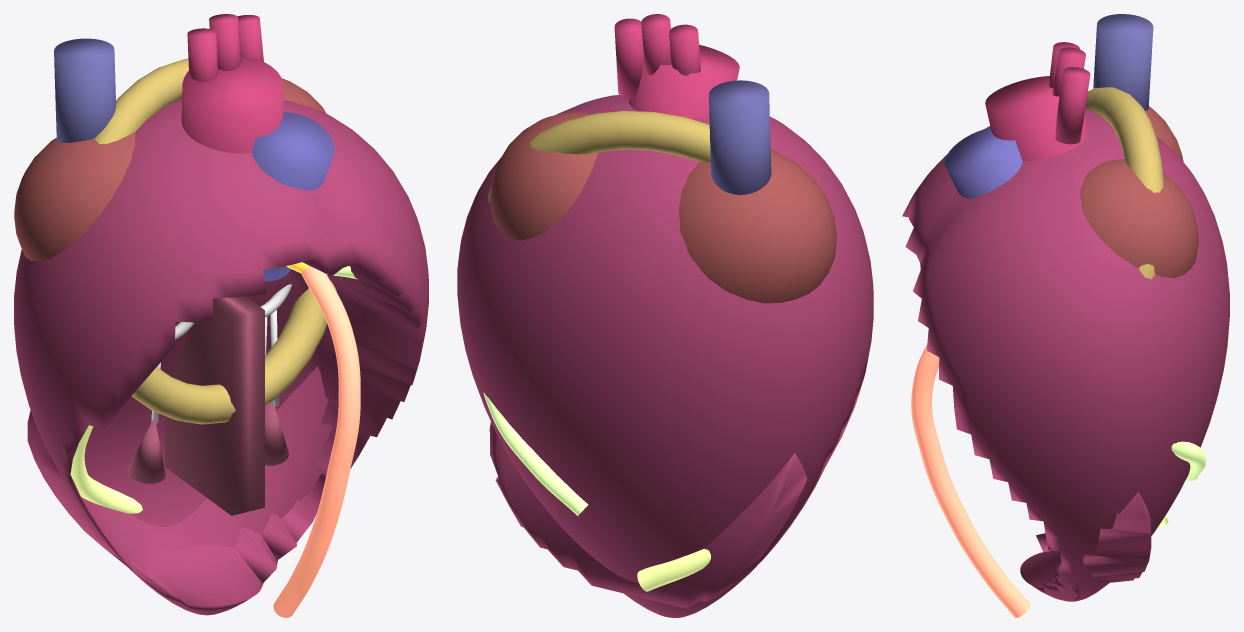
File: cardiac_model.glb
The picture shows the model from 3 angles, left to right: view 1: azimuth 30°, elevation 25°; view 2: azimuth 150°, elevation 25°; view 3: azimuth 270°, elevation 25°; orthographic projection. The views are drawn at different scales.
Parts seen in each view (by area): view 1: Myocardium_Ventricular, Chamber_Interventricular_Septum, Epicardial_Adipose, Right_Atrium, Vessel_LAD, Ascending_Aorta, Superior_Vena_Cava, Pulmonary_Trunk, Vessel_RCA, Branch_Brachiocephalic, Papillary_Muscle_RV, Branch_LeftCarotid (+3 smaller); view 2: Myocardium_Ventricular, Right_Atrium, Left_Atrium, Superior_Vena_Cava, Epicardial_Adipose, Ascending_Aorta, Vessel_LCX, Branch_LeftSubclavian, Vessel_RCA, Branch_LeftCarotid, Branch_Brachiocephalic; view 3: Myocardium_Ventricular, Left_Atrium, Vessel_LAD, Ascending_Aorta, Superior_Vena_Cava, Epicardial_Adipose, Pulmonary_Trunk, Branch_LeftSubclavian, Vessel_LCX, Branch_LeftCarotid, Right_Atrium.
Boxes of the visible parts, x1,y1,x2,y2 form: Myocardium_Ventricular: (14,98,428,615); Chamber_Interventricular_Septum: (165,296,264,515); Epicardial_Adipose: (95,58,336,424); Right_Atrium: (14,132,135,260); Vessel_LAD: (273,265,360,617); Ascending_Aorta: (181,57,283,153); Superior_Vena_Cava: (54,38,115,142); Pulmonary_Trunk: (252,112,334,281); Vessel_RCA: (70,425,142,513); Branch_Brachiocephalic: (187,28,217,82); Papillary_Muscle_RV: (127,416,165,483); Branch_LeftCarotid: (209,14,240,70); Myocardium_Ventricular: (457,95,873,617); Right_Atrium: (678,149,836,303); Left_Atrium: (490,112,598,240); Superior_Vena_Cava: (709,80,771,194); Epicardial_Adipose: (487,110,710,202); Ascending_Aorta: (629,44,739,118); Vessel_LCX: (483,392,588,515); Branch_LeftSubclavian: (614,18,644,99); Vessel_RCA: (637,548,710,591); Branch_LeftCarotid: (641,14,671,75); Branch_Brachiocephalic: (669,24,700,75); Myocardium_Ventricular: (902,108,1229,601); Left_Atrium: (1080,159,1198,278); Vessel_LAD: (911,344,1030,617); Ascending_Aorta: (985,76,1088,161); Superior_Vena_Cava: (1093,14,1153,110); Epicardial_Adipose: (1085,87,1163,279); Pulmonary_Trunk: (944,127,1022,198); Branch_LeftSubclavian: (1055,67,1090,144); Vessel_LCX: (1171,441,1206,480); Branch_LeftCarotid: (1052,47,1085,96); Right_Atrium: (1088,91,1183,161).
Size of the model in its own units: 1.77 by 2.7 by 1.45.
